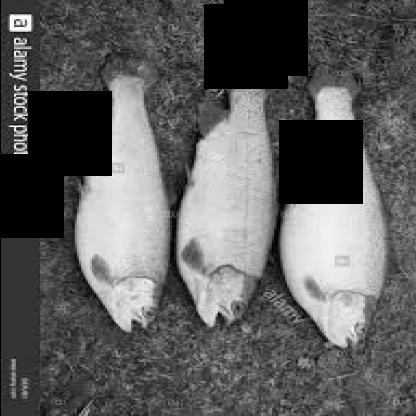fish: (281, 61, 388, 348), (173, 60, 280, 326), (77, 52, 174, 336)
